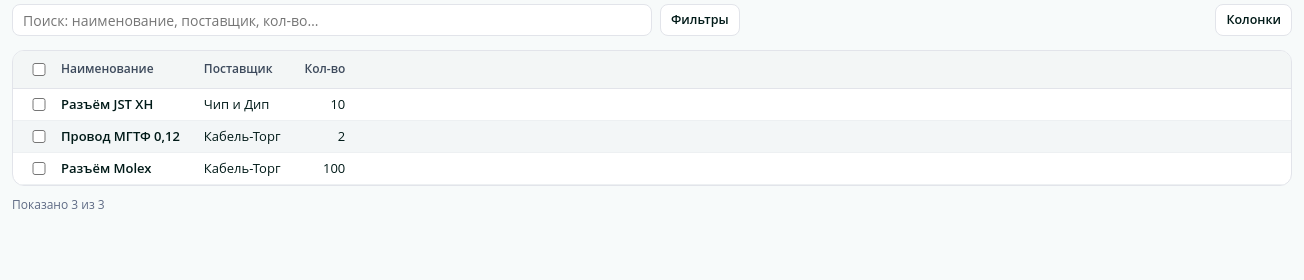
Test: runs a bulk action on the selected rows and clears the selection
Step 1. Click the checkbox named "Выбрать 1" → click(39, 104), box [29,98,49,111]
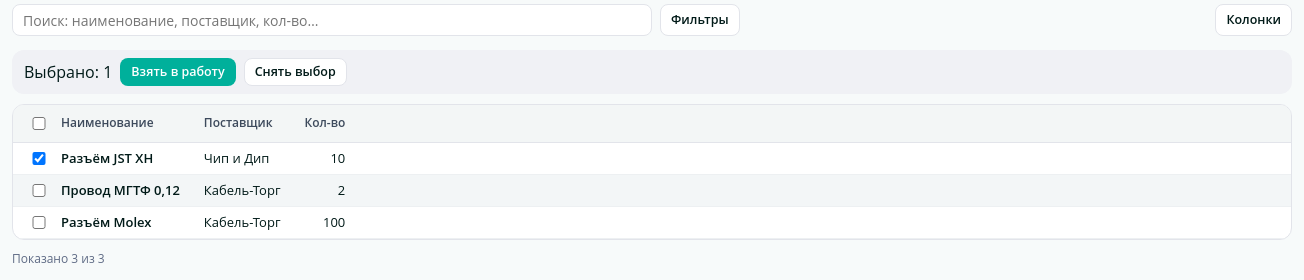
Step 2. Click the checkbox named "Выбрать 3" → click(39, 222), box [29,216,49,229]
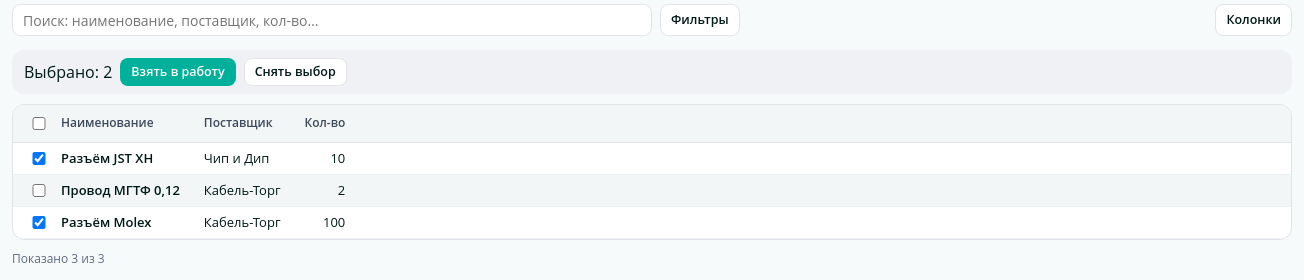
Step 3. Click the button "Взять в работу" → click(178, 72), box [120,58,236,86]
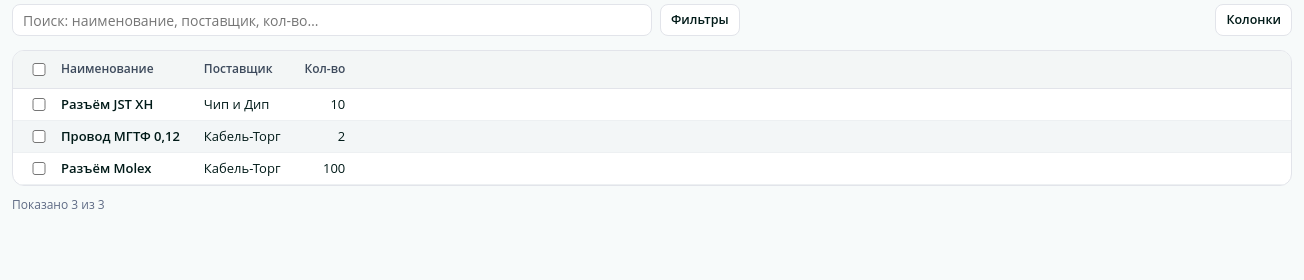
Expected: the checkbox named "Выбрать все показанные" is shown, [29,63,49,76]
Result: the text "Выбрано: 2" is gone
